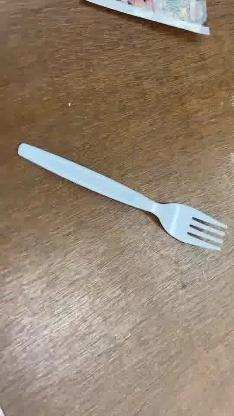Others: (17, 141, 228, 250)
